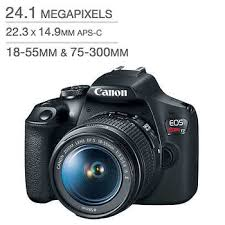camera: (23, 81, 200, 208)
flash: (51, 139, 144, 211)
